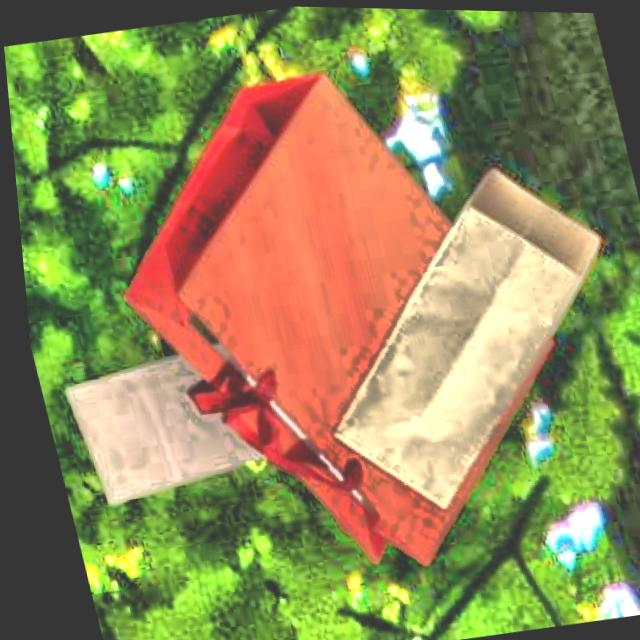Paper-bag: (66, 25, 603, 615), (264, 142, 640, 530), (43, 307, 346, 520)
